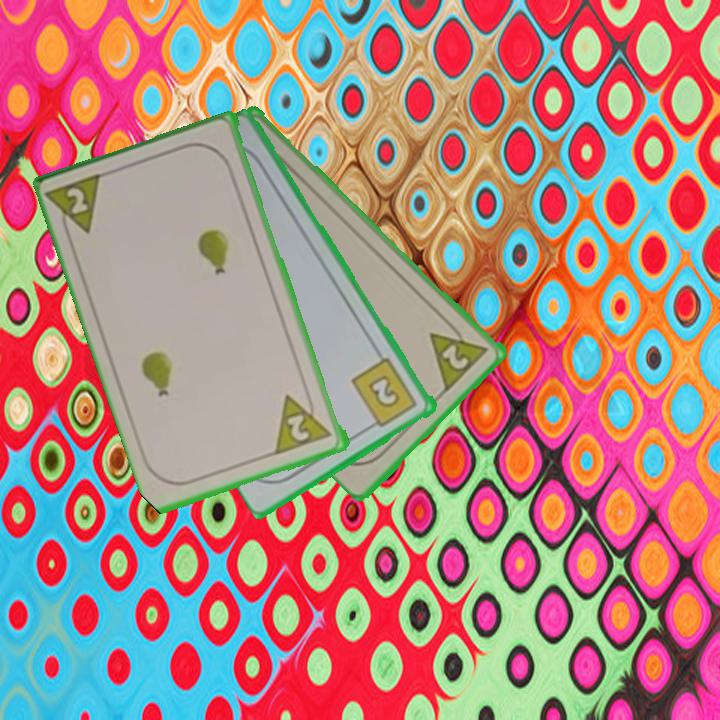2b: (348, 354, 421, 432)
2p: (426, 314, 493, 394), (45, 169, 108, 244), (272, 386, 335, 458)
